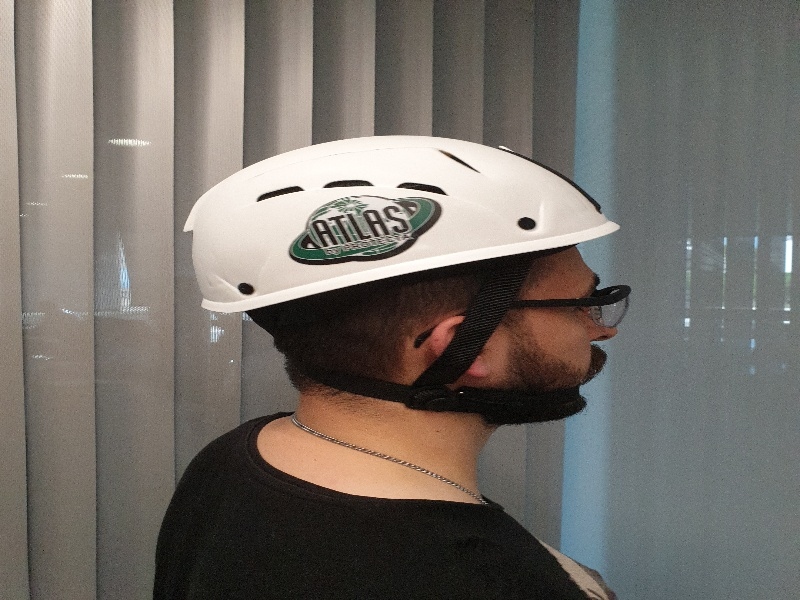Baret: (189, 134, 619, 287)
Gozluk: (500, 285, 633, 330)
